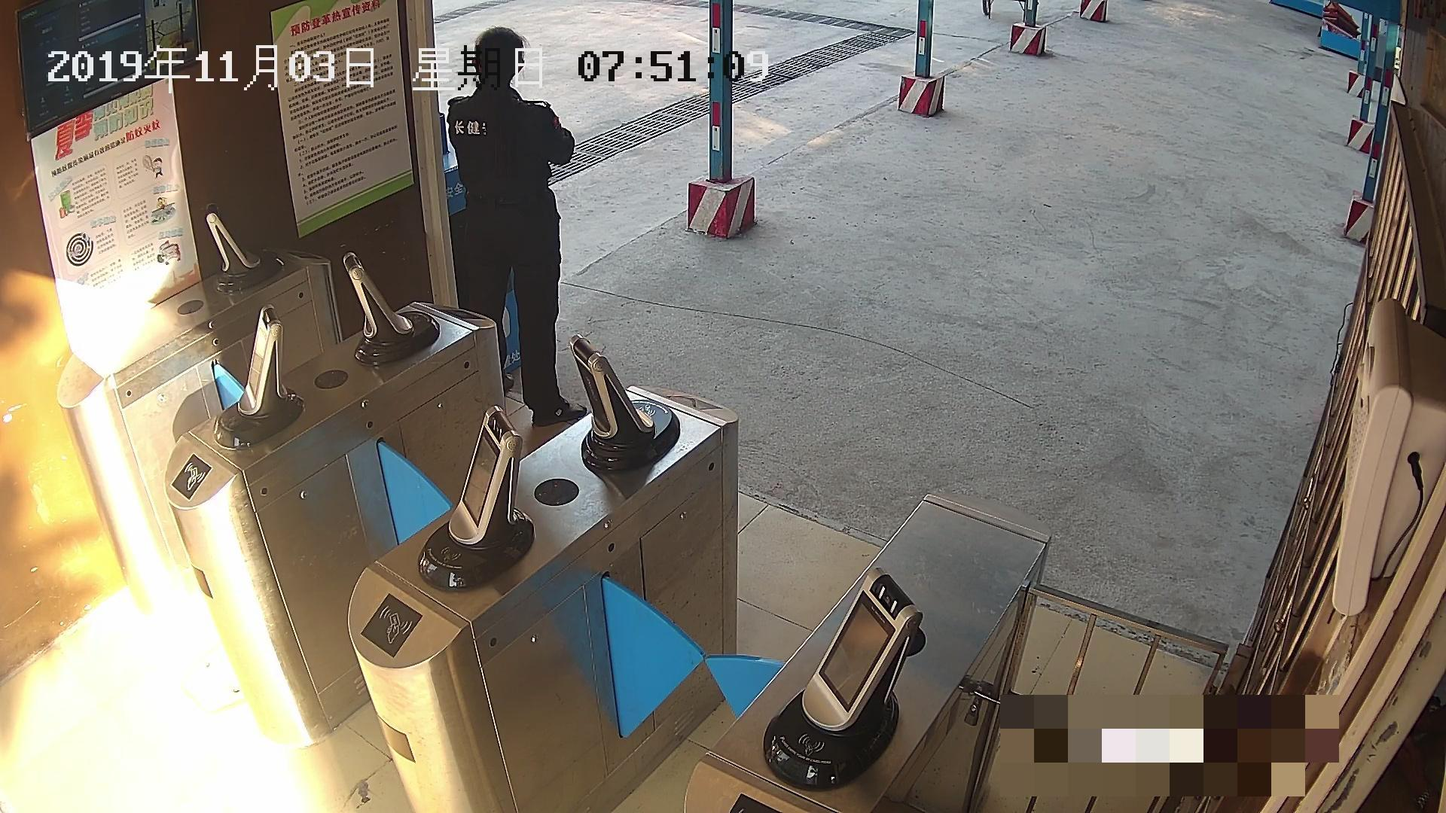head: (467, 26, 526, 78)
person: (448, 26, 585, 425)
